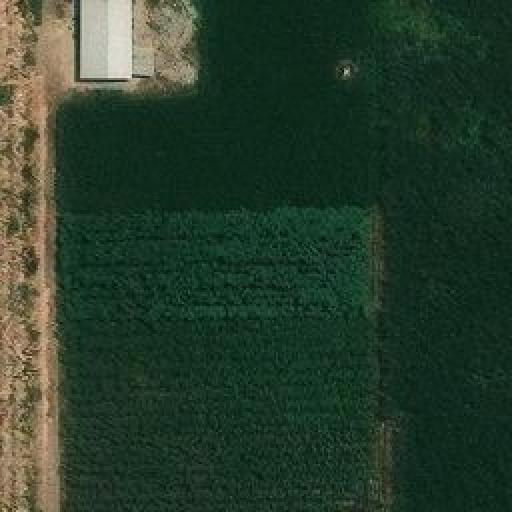manzanas: (79, 1, 159, 84)
